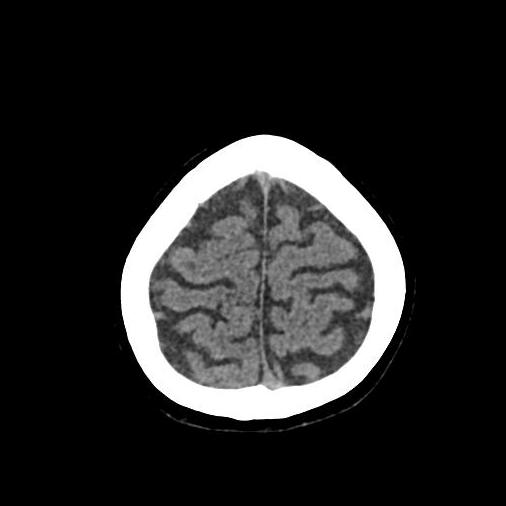Normal_Brain: (44, 86, 466, 471)
